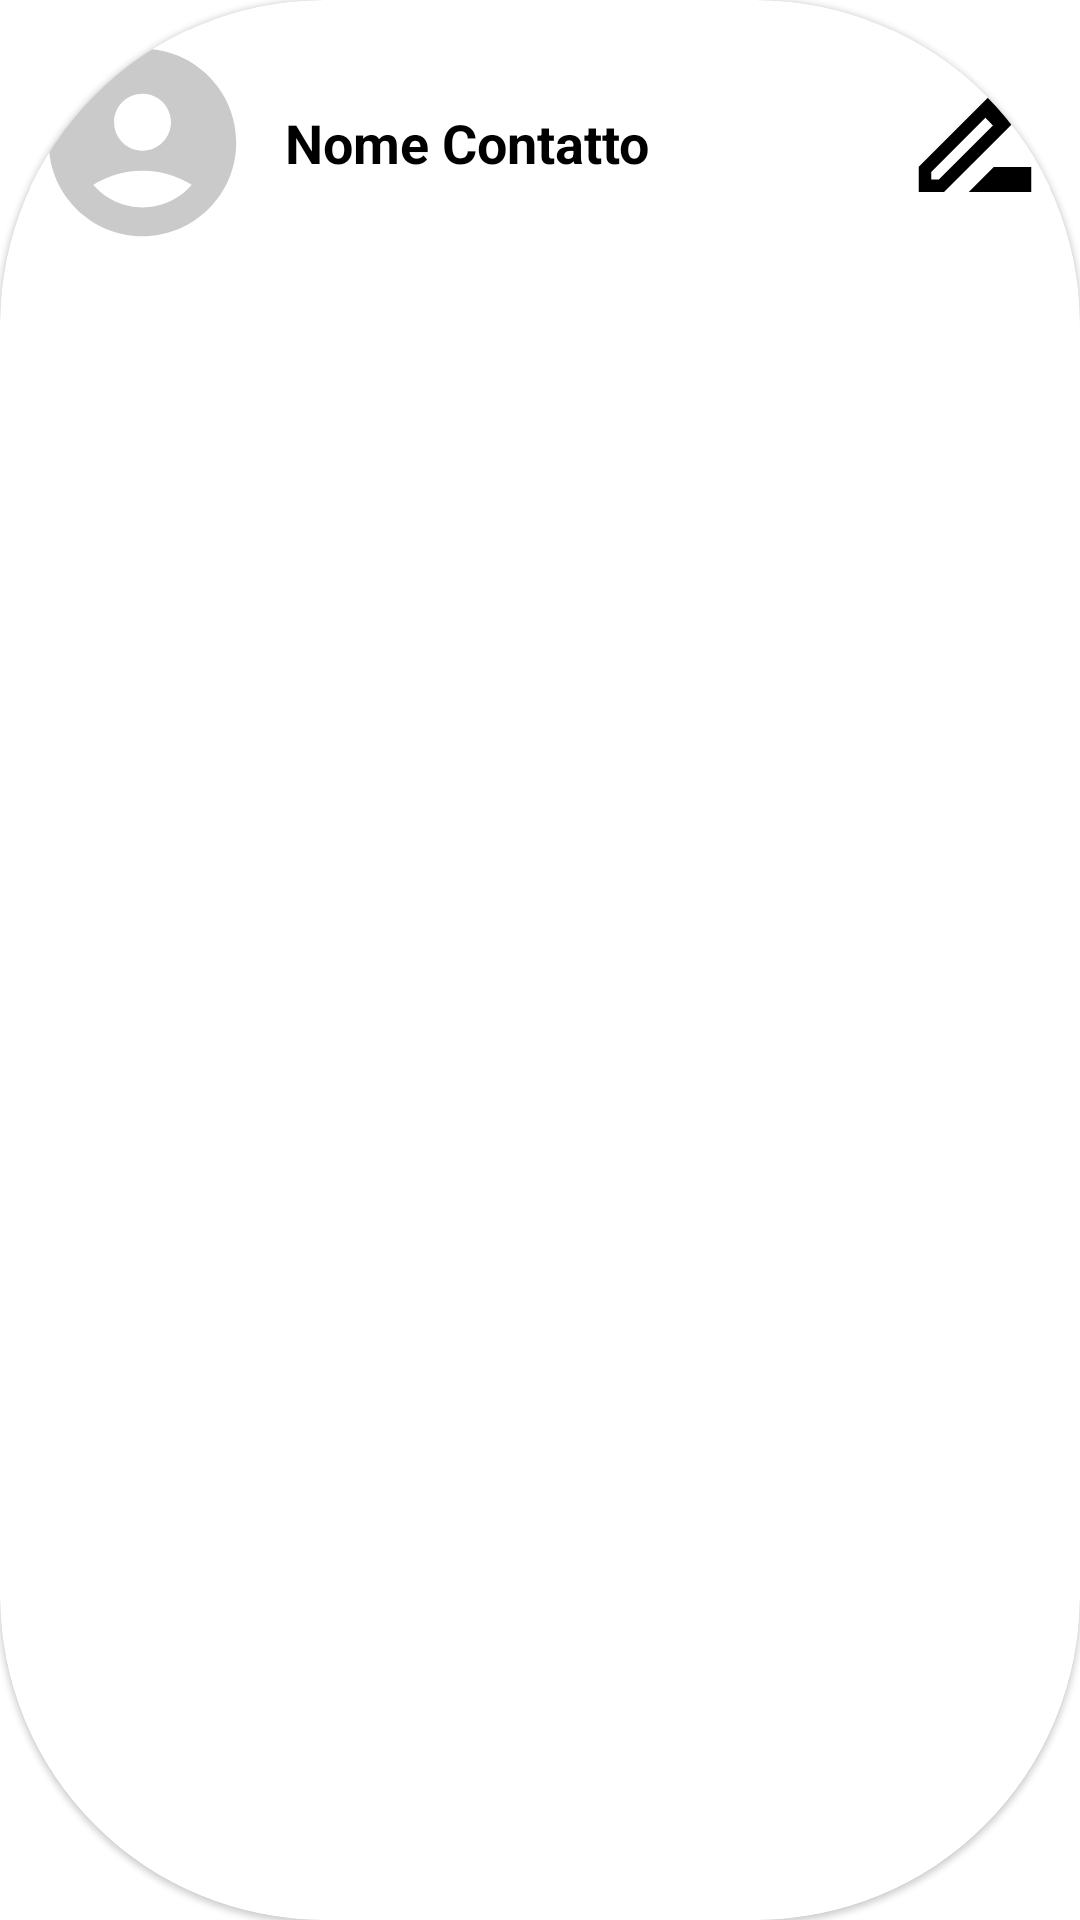

Icon bounding boxes for this 1080px x 1920px phone screenshot, format (x1, y1, x2, y2):
account circle: (30, 30, 236, 236)
file rename: (918, 90, 1050, 192)
